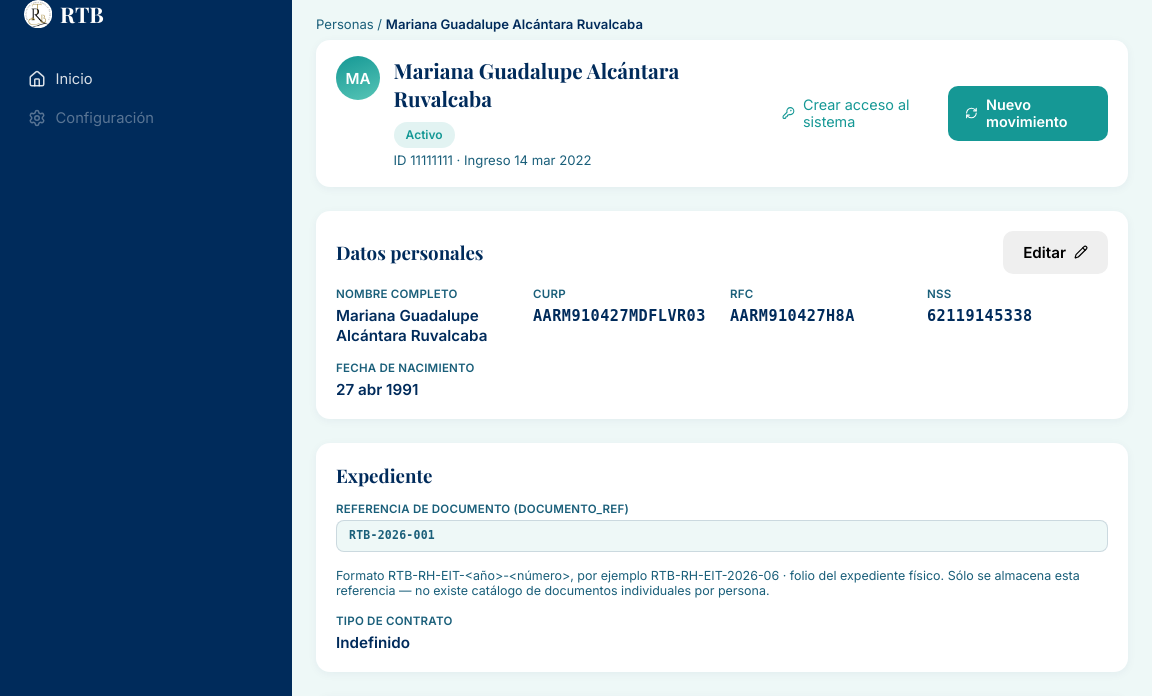
FichaPersonaPage › edición in-place de Datos personales/Expediente › submit sin cambios corta antes del fetch con 'No modificaste ningún campo.'
Expected: the text "Mariana Guadalupe Alcántara Ruvalcaba" next to "Personas" is shown, [386,16,643,32]
Click the button "Editar".
click(1056, 252)  # box [1003,231,1108,274]
(page scrolled)
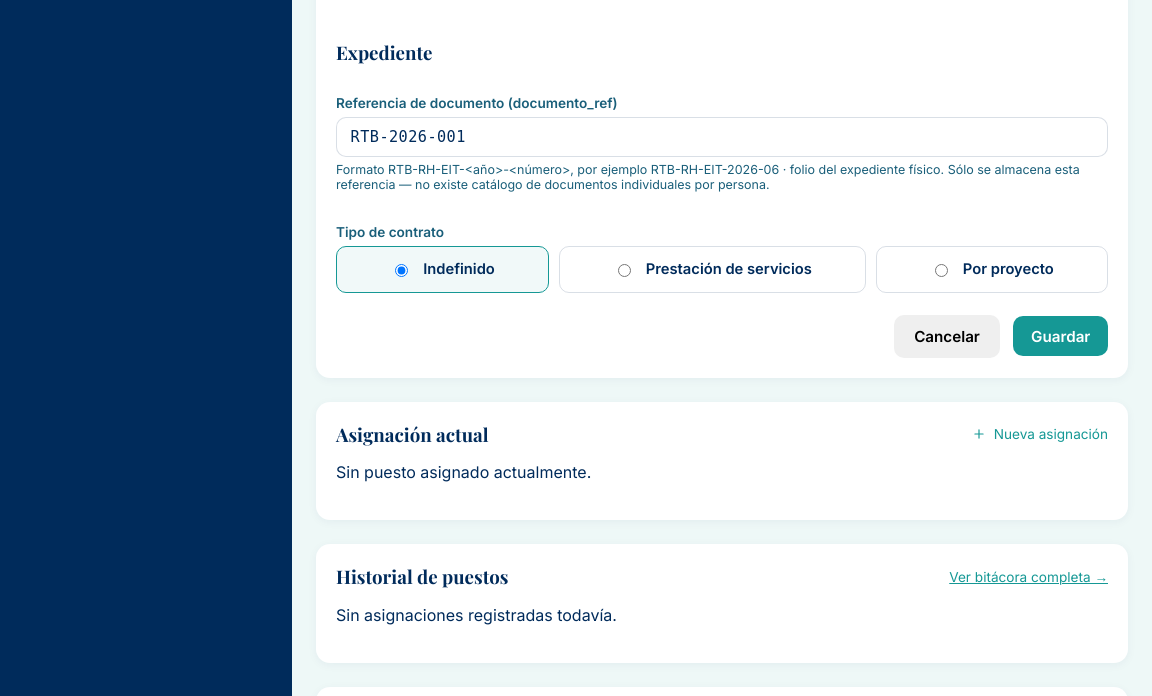
Click the button "Guardar".
click(1061, 336)  # box [1014,316,1108,356]
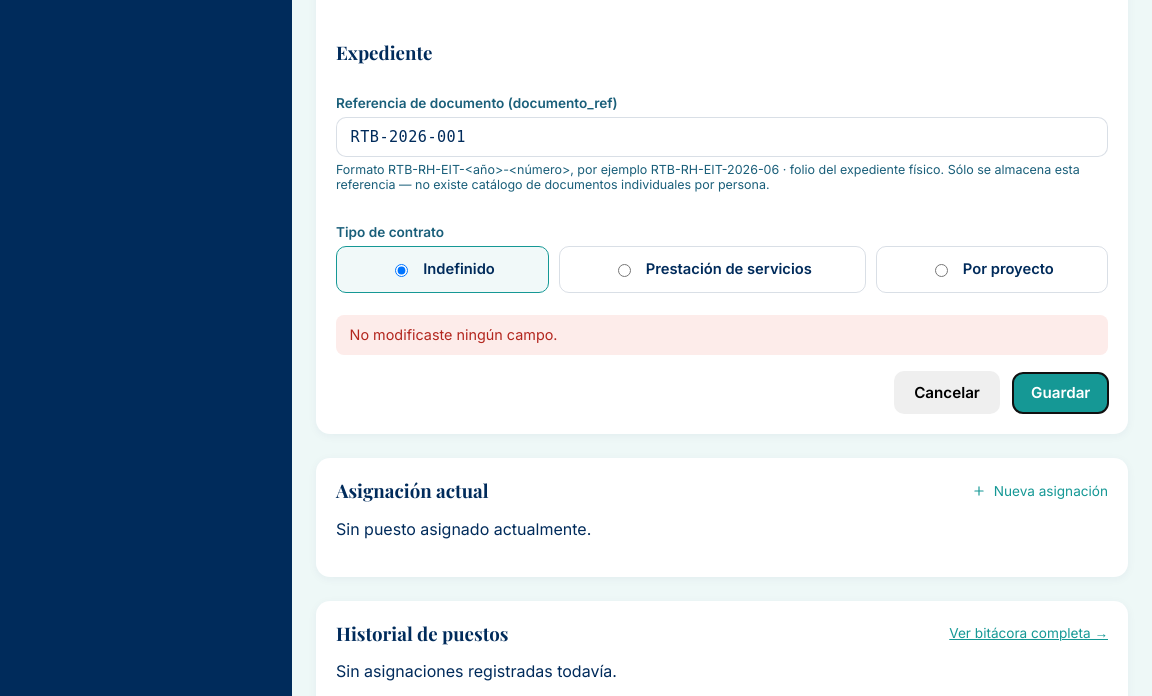
Expected: the text "No modificaste ningún campo." is shown, [336,314,1108,355]
